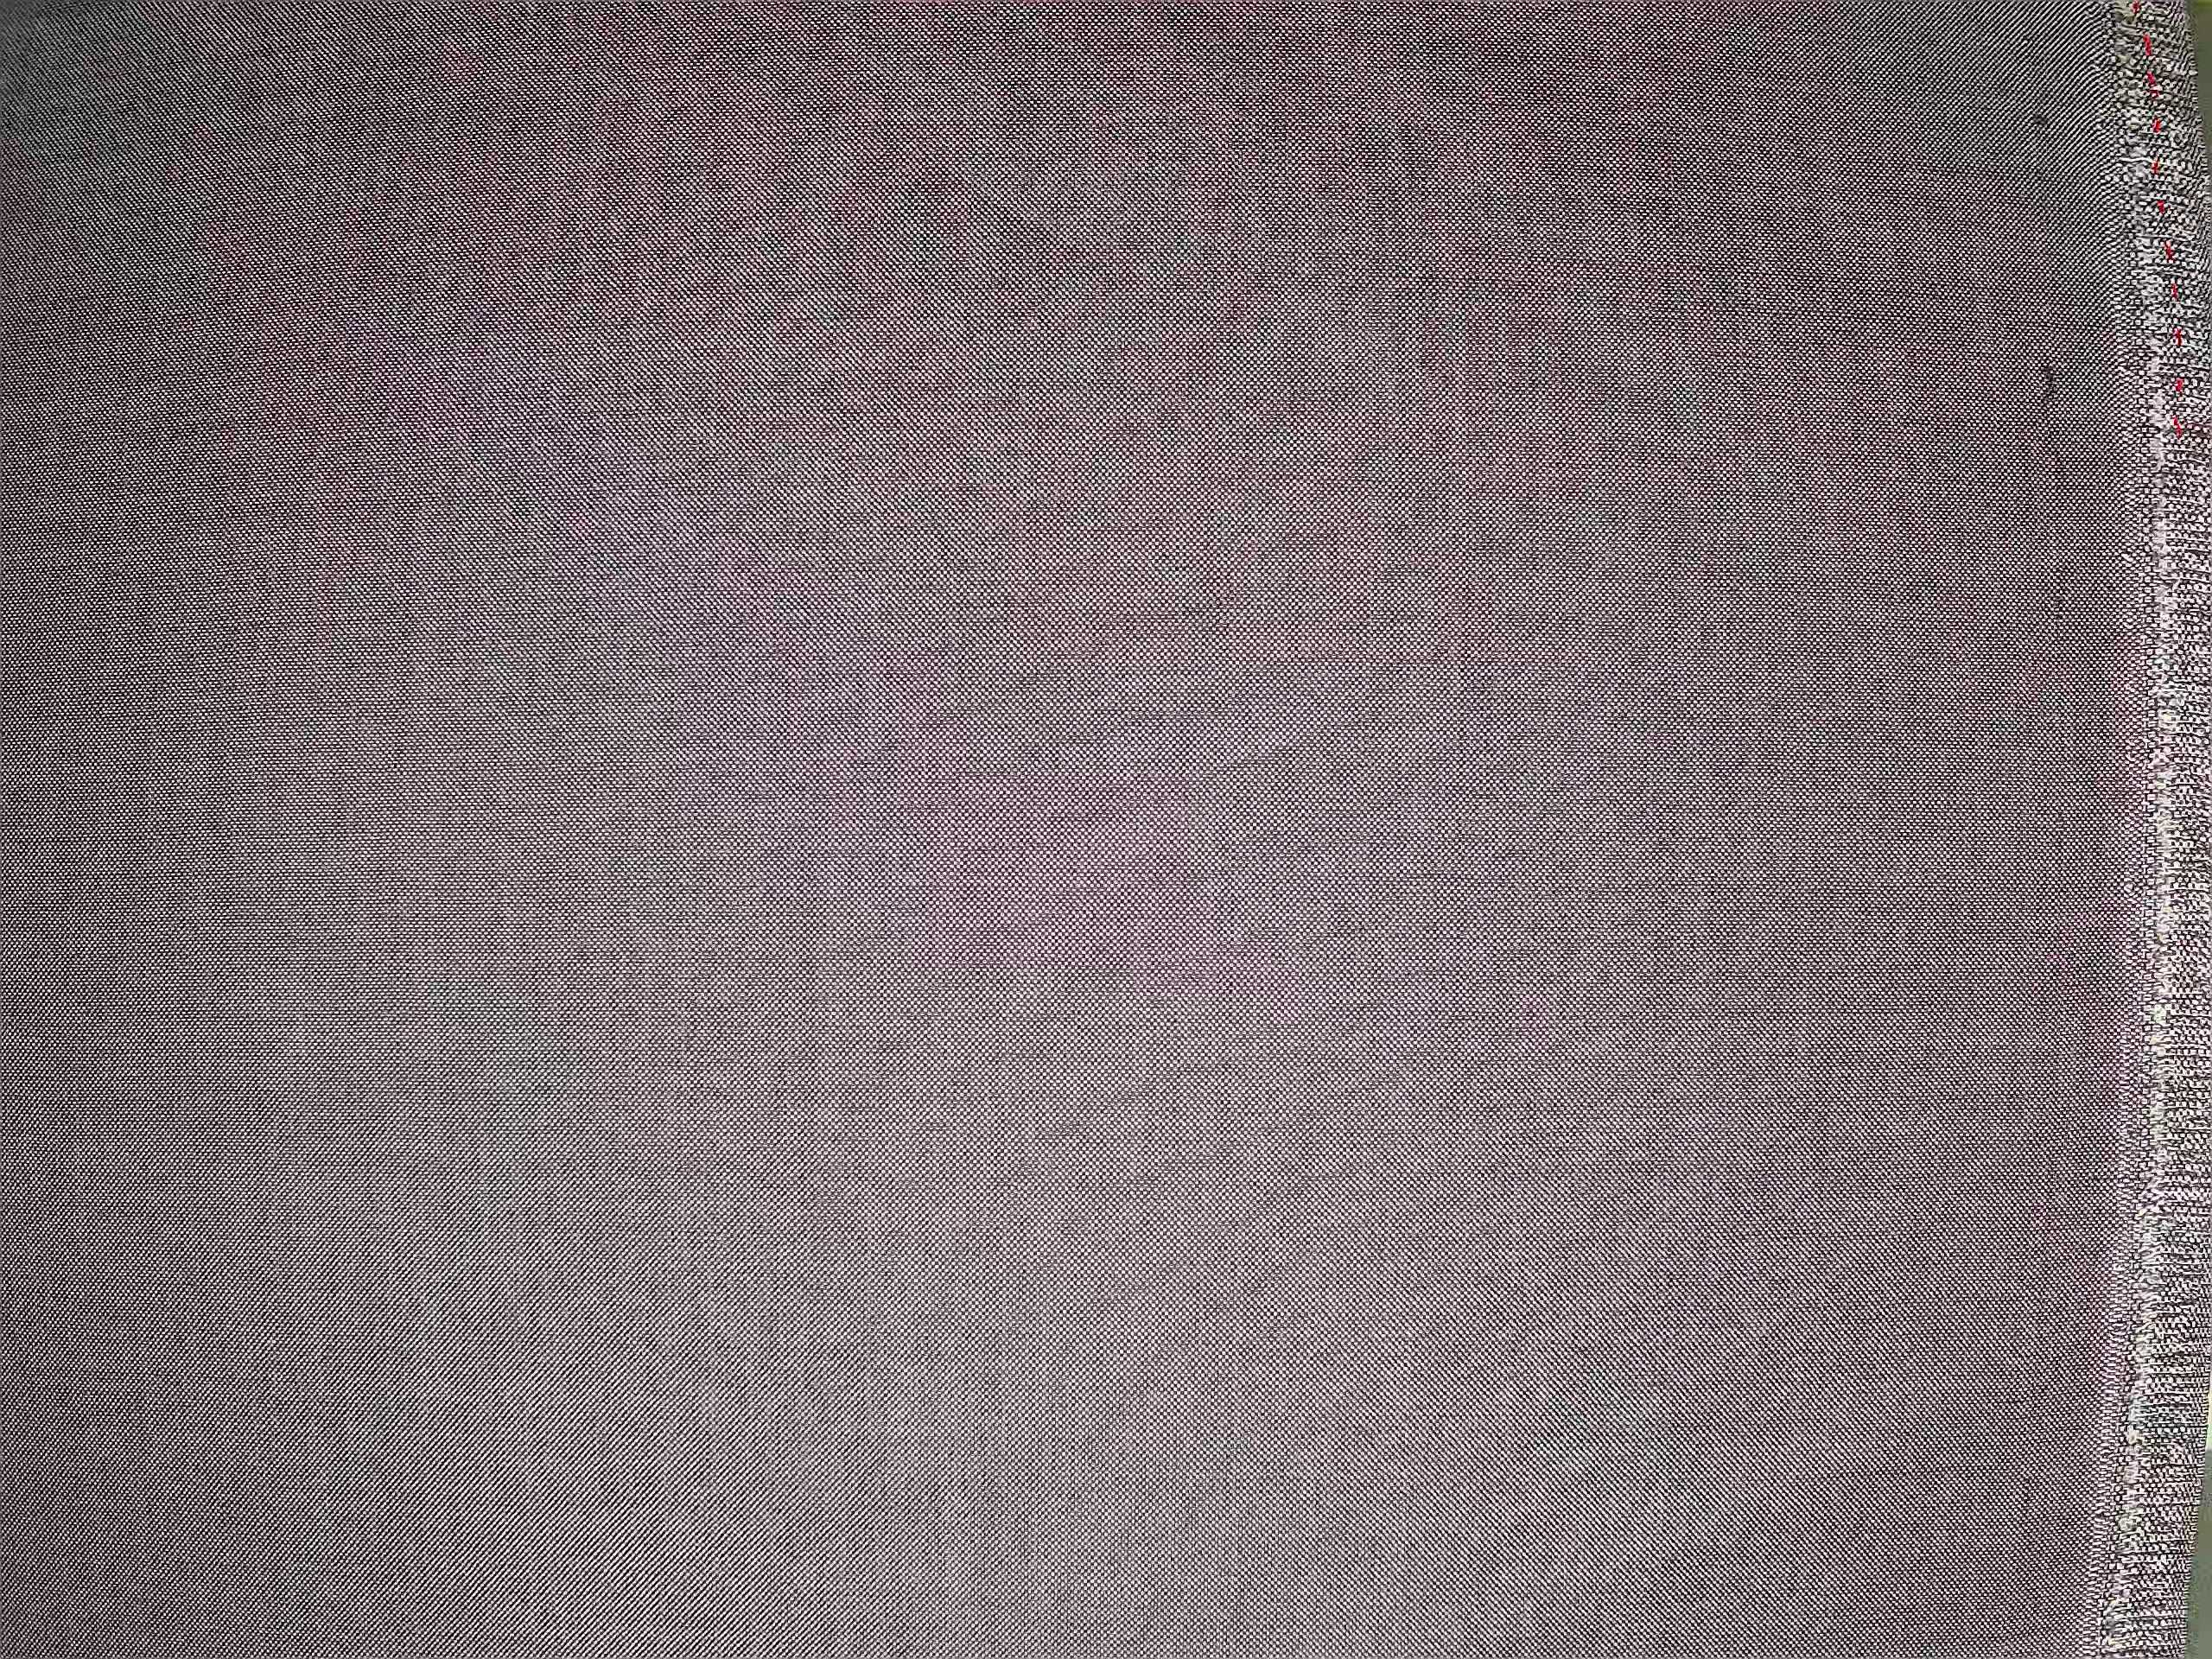hanging-warp: (2019, 59, 2078, 866)
